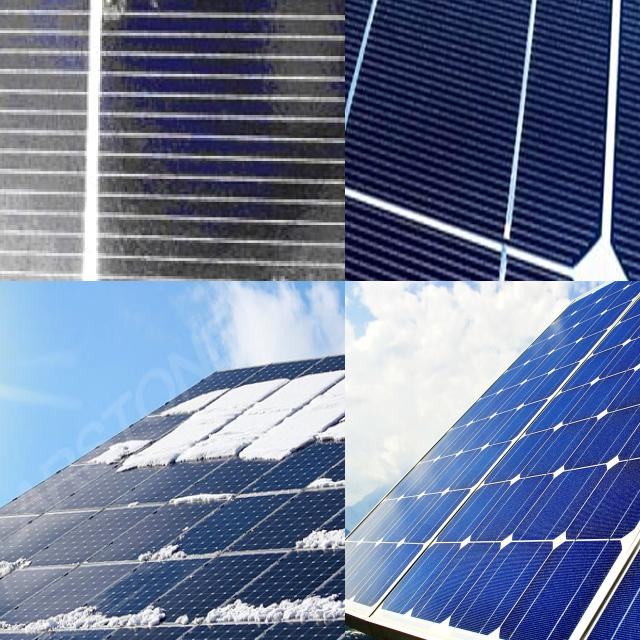crack: (345, 0, 631, 281), (345, 100, 616, 281), (418, 533, 621, 640), (574, 533, 640, 640)
panel: (168, 392, 296, 479), (199, 581, 345, 636), (124, 500, 186, 590), (297, 369, 345, 473), (0, 611, 188, 635), (153, 487, 243, 530), (0, 535, 45, 594), (102, 426, 152, 478), (288, 517, 345, 562), (301, 448, 345, 502)
shadow: (2, 0, 155, 82)
